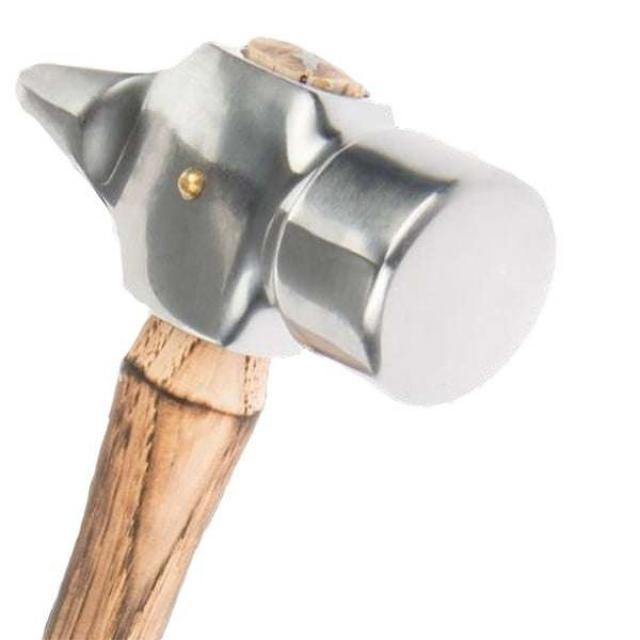hammer: (0, 27, 563, 640)
